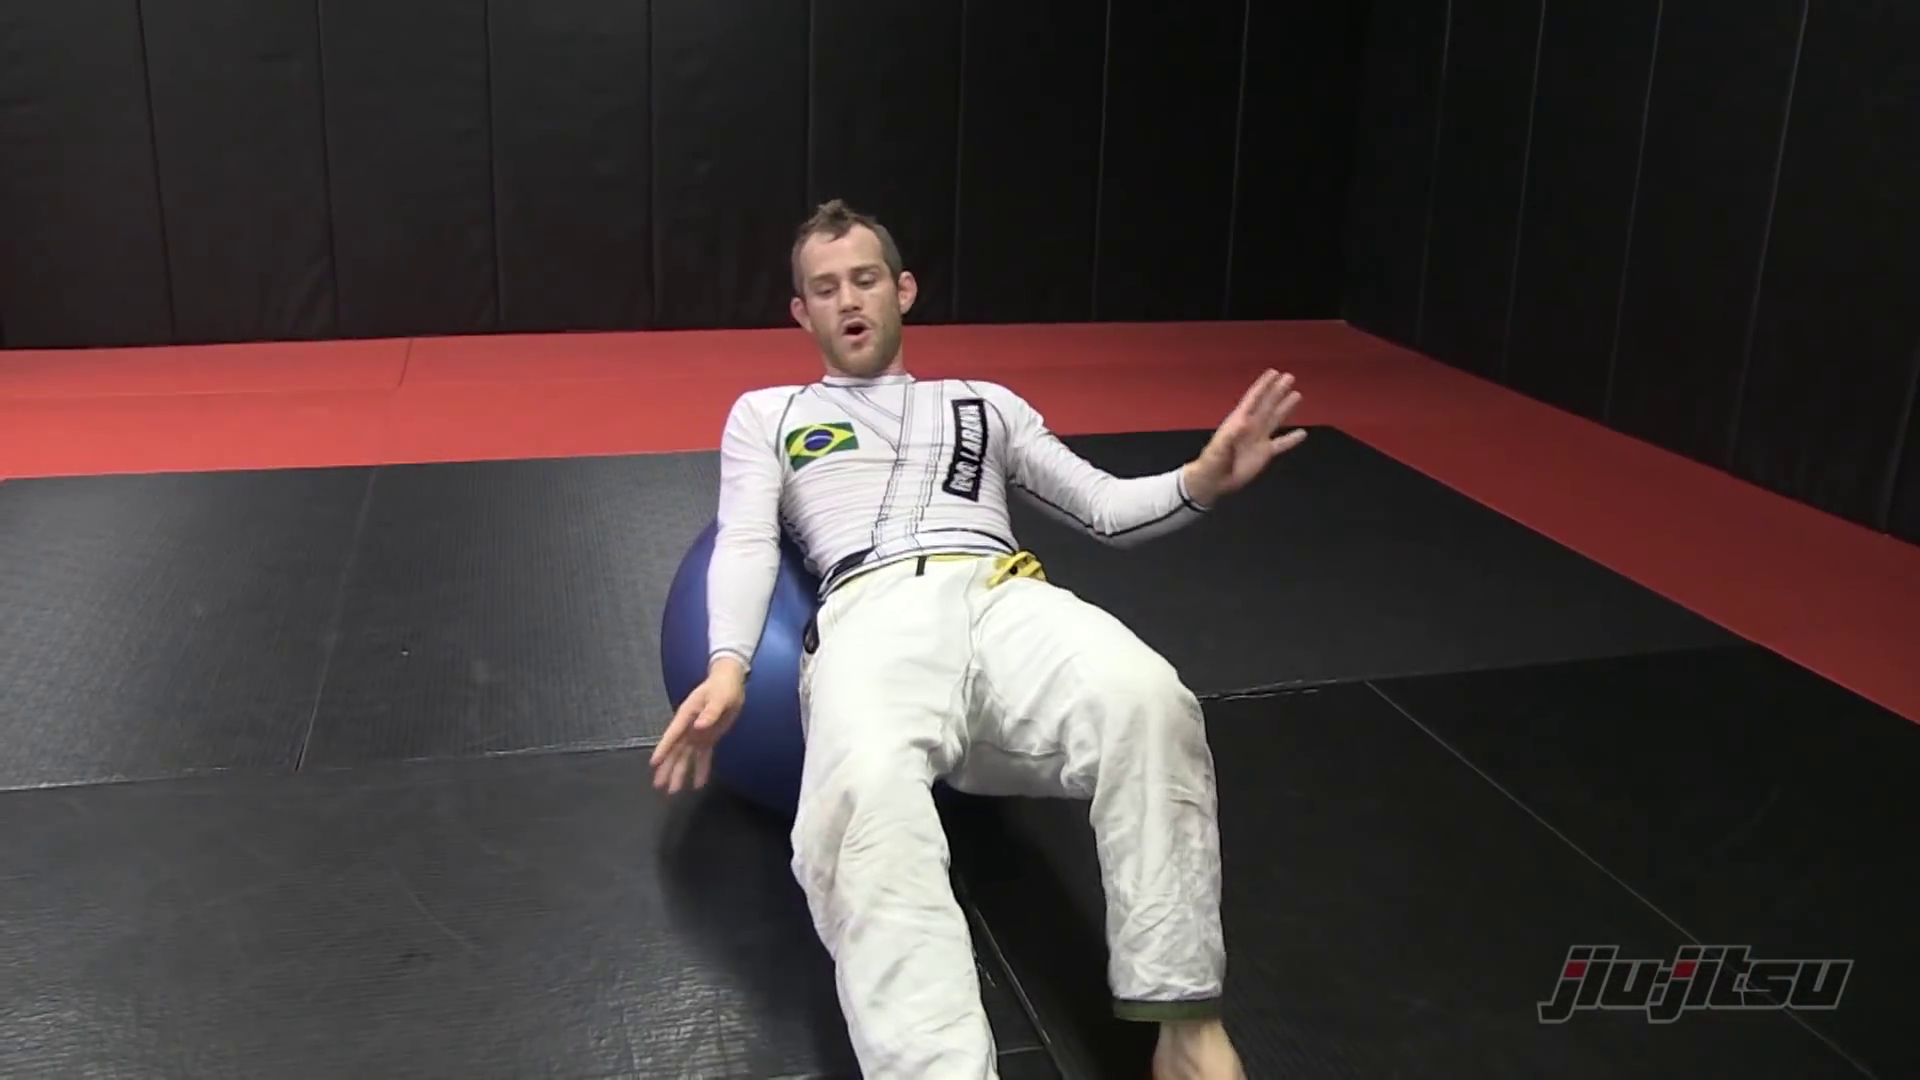yogaball: (636, 500, 911, 814)
